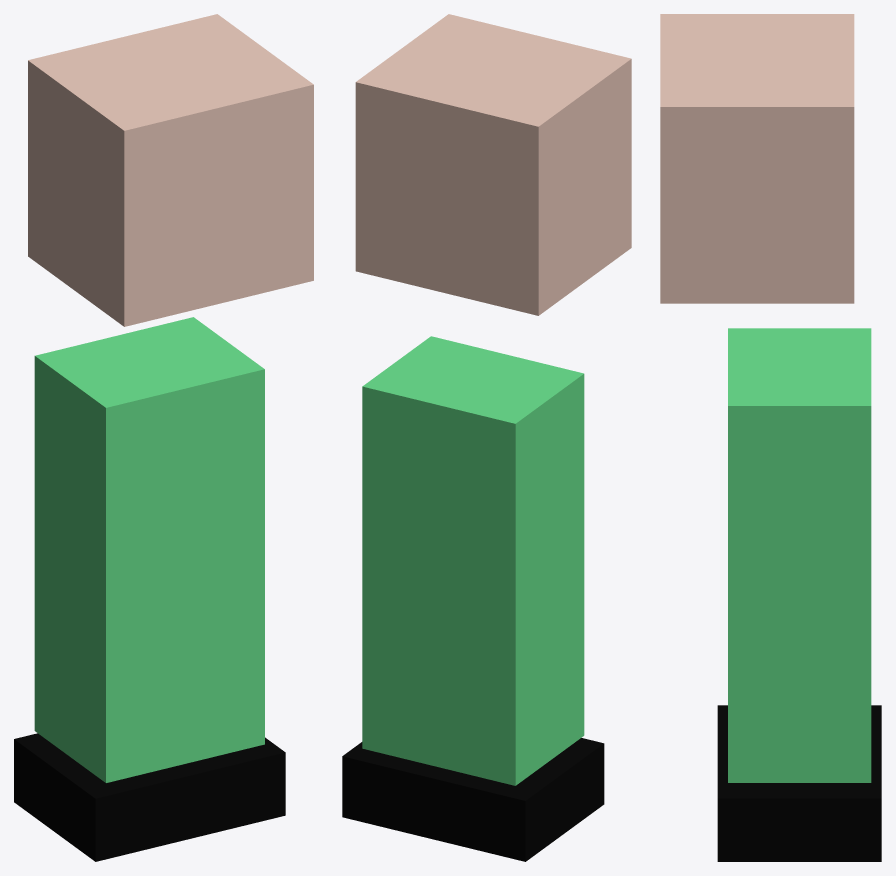
Rendered from HeadHandsAvatar.fbx.
The picture shows the model from 3 angles, left to right: view 1: azimuth 30°, elevation 25°; view 2: azimuth 150°, elevation 25°; view 3: azimuth 270°, elevation 25°; orthographic projection. The views are drawn at different scales.
Parts seen in each view (by area): view 1: RootAvatar, HeadAvatar; view 2: RootAvatar, HeadAvatar; view 3: RootAvatar, HeadAvatar.
Boxes of the visible parts, bbox=[...] form: RootAvatar: bbox=[14, 317, 285, 861]; HeadAvatar: bbox=[28, 14, 313, 326]; RootAvatar: bbox=[342, 336, 604, 861]; HeadAvatar: bbox=[355, 14, 631, 315]; RootAvatar: bbox=[717, 328, 881, 861]; HeadAvatar: bbox=[660, 14, 854, 303].
Bounding box in the file's own units: 26.02 × 98.4 × 26.13.
1 material, 1 textured.
